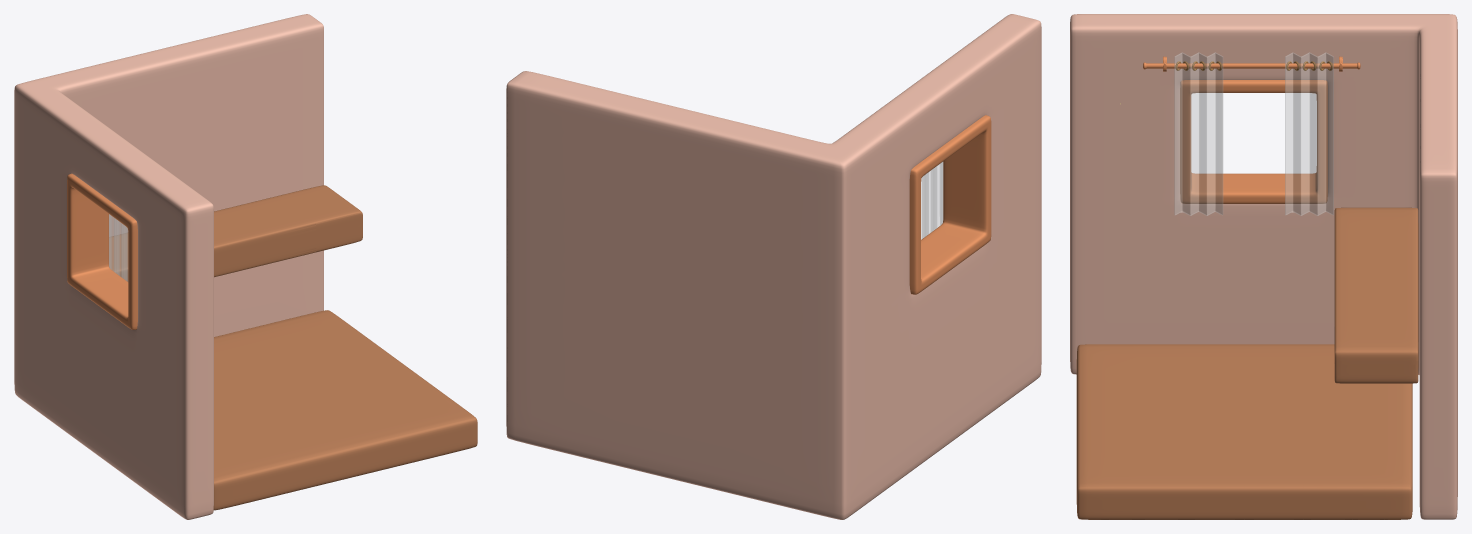
3 renders of one model, left to right at view 1: azimuth 30°, elevation 25°; view 2: azimuth 150°, elevation 25°; view 3: azimuth 270°, elevation 25°, orthographic. The views are drawn at different scales.
Parts seen in each view (by area): view 1: Floor_2; view 2: Floor_2; view 3: Floor_2.
Part boxes in pixels (bbox=[...]): Floor_2: bbox=[14, 14, 477, 519]; Floor_2: bbox=[506, 14, 1041, 519]; Floor_2: bbox=[1070, 14, 1457, 519].
Bounding box in the file's own units: 10 × 10 × 10.
